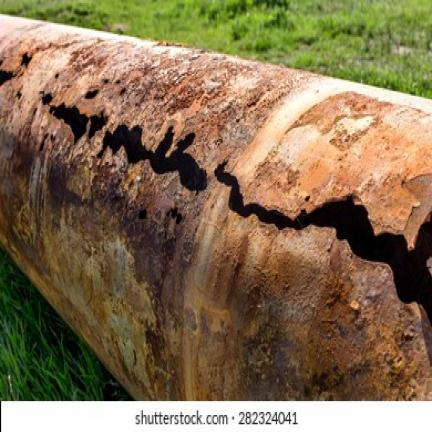karat: (0, 16, 431, 399)
